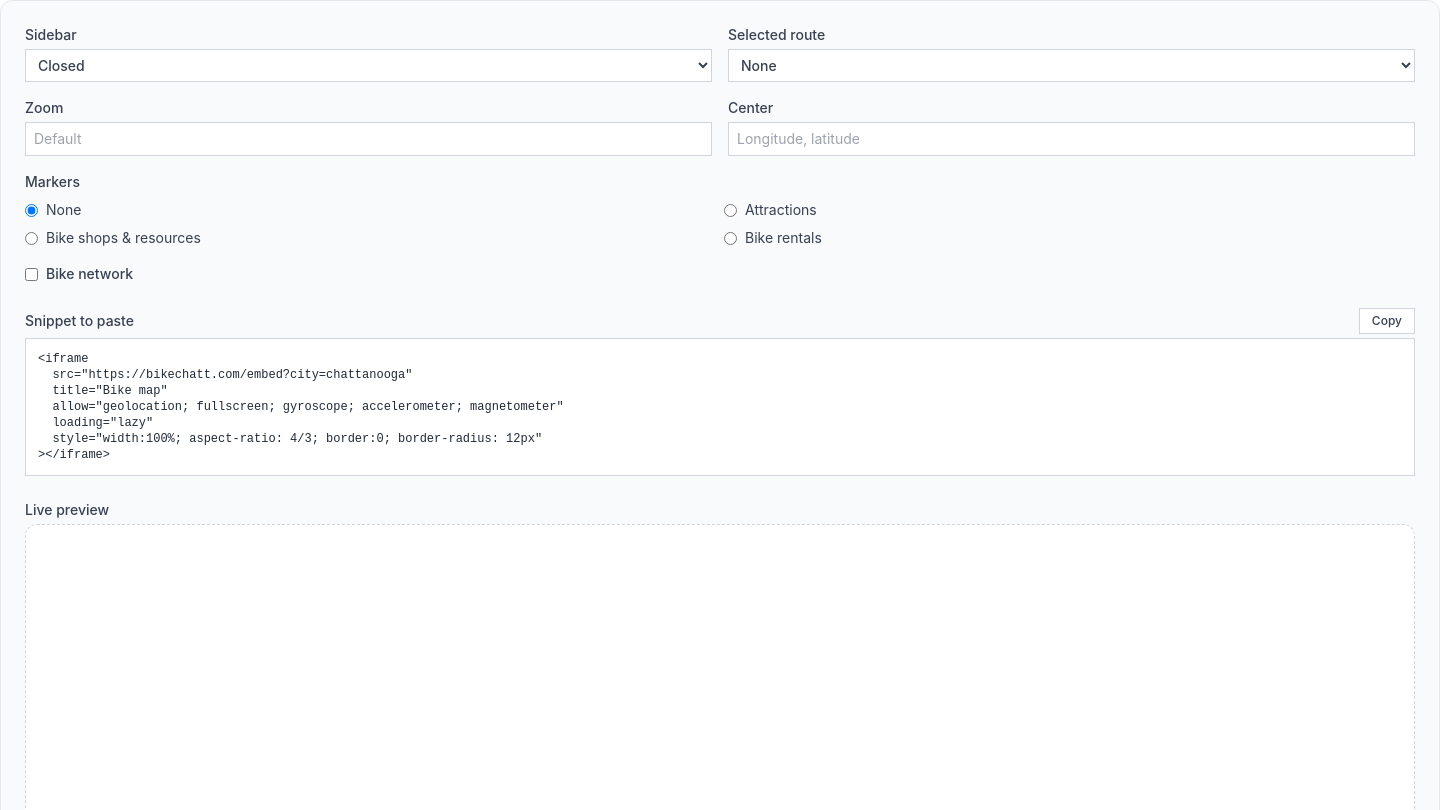
Test: EmbedSnippetBuilder › the bike-network toggle combines with a marker selection
Click the radio button labelled "Attractions" at [730, 210], box [724,204,737,216]
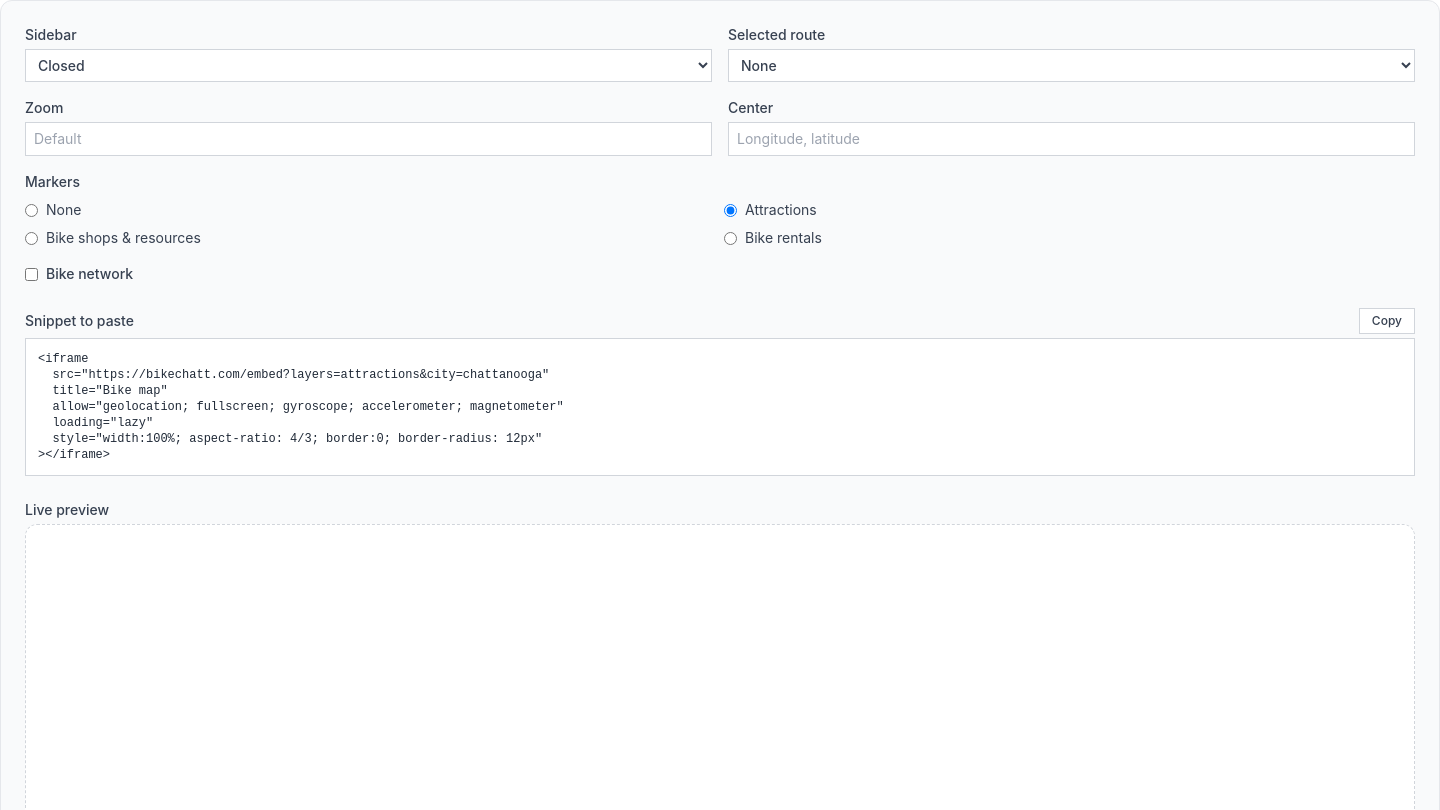
Click the checkbox labelled "Bike network" at [32, 274], box [25,268,38,280]
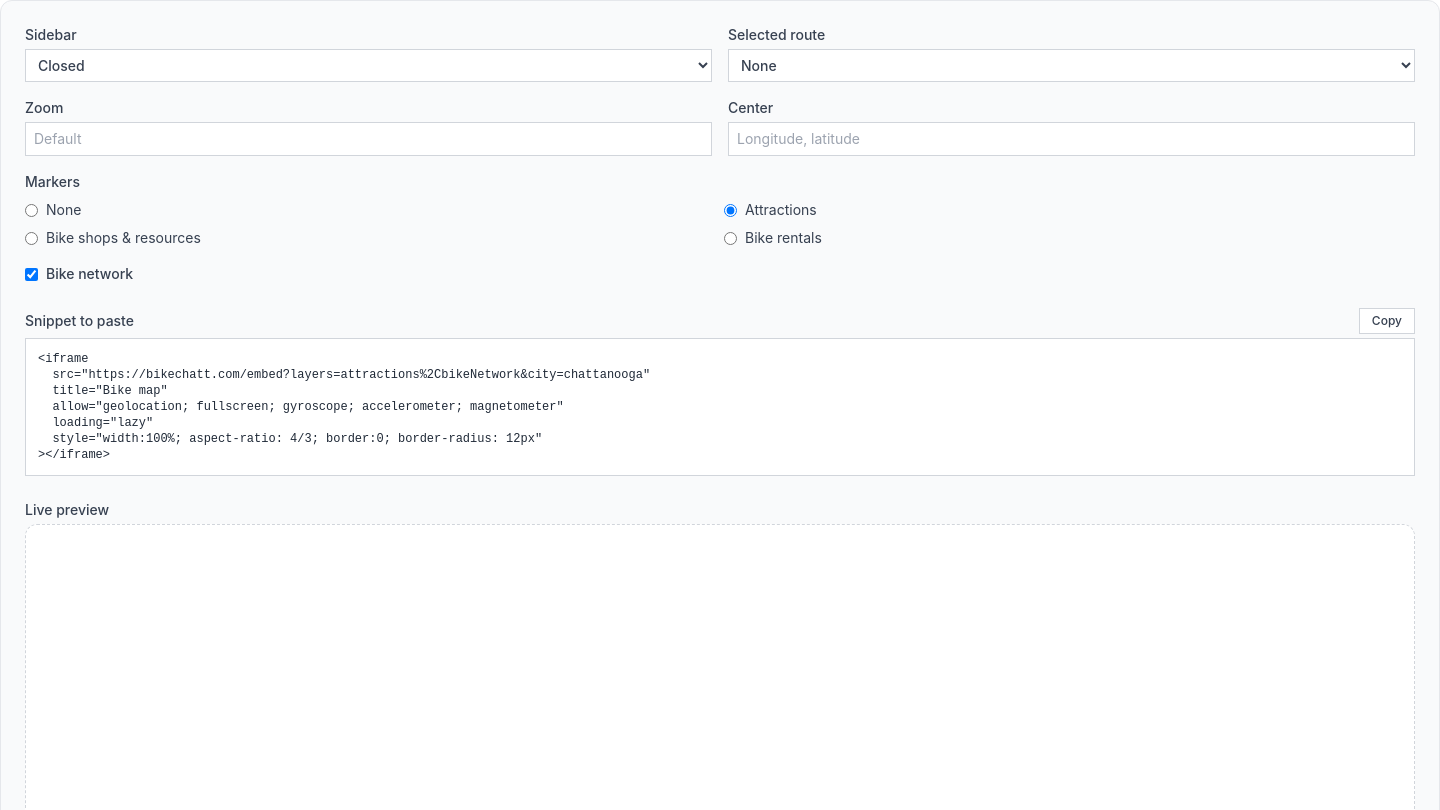
Check: the text "<iframe" shows "layers=attractions%2CbikeNetwork", box [38,352,650,462]
